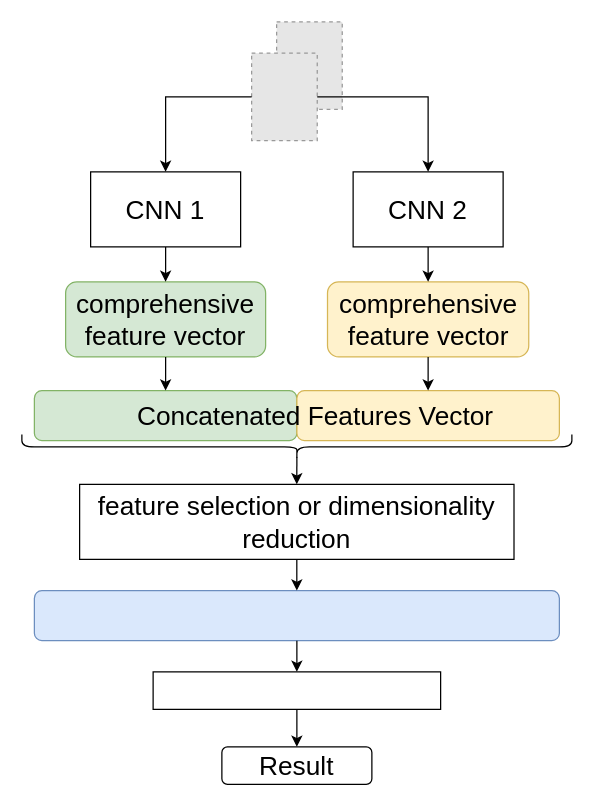
The diagram is 594 pixels wide and 806 high, and some of its shapes have lost their labels. Grey dashed boxes stand in for pictures. Here are the shapes that lost their labels. From the top down, the centre of each, then its label:
pixel 296 615: features vector of n dimensions
pixel 296 690: Supervised Classifier
